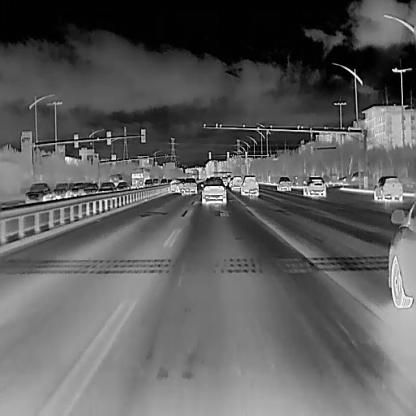car: (371, 173, 403, 201), (200, 174, 226, 204), (24, 181, 52, 205), (302, 176, 326, 198), (240, 173, 260, 195), (97, 180, 116, 200), (51, 181, 68, 198), (70, 180, 85, 199), (168, 177, 184, 194), (182, 176, 197, 193), (275, 175, 292, 190), (83, 181, 98, 197), (115, 180, 130, 196), (231, 176, 242, 190), (142, 177, 153, 189), (152, 176, 158, 186), (160, 177, 166, 186)
truck: (129, 167, 150, 186), (107, 173, 124, 188)
